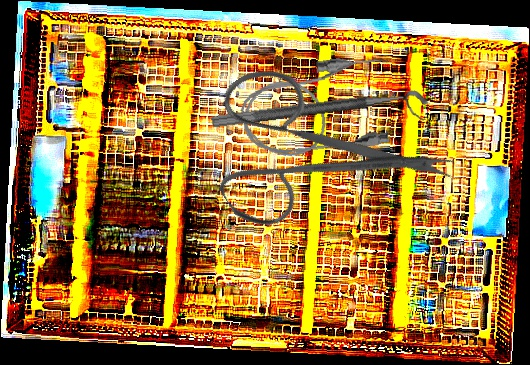Cannula: (233, 50, 402, 166)
Fixation Ring: (210, 87, 432, 147)
Iris Scissors: (175, 5, 461, 286)
